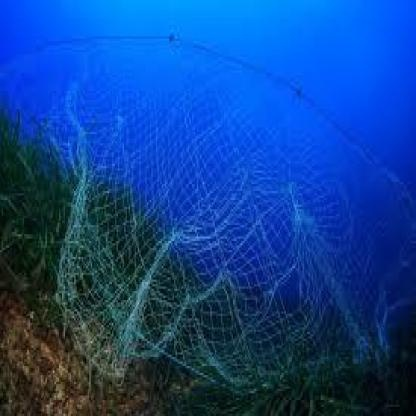net: (70, 50, 375, 384)
